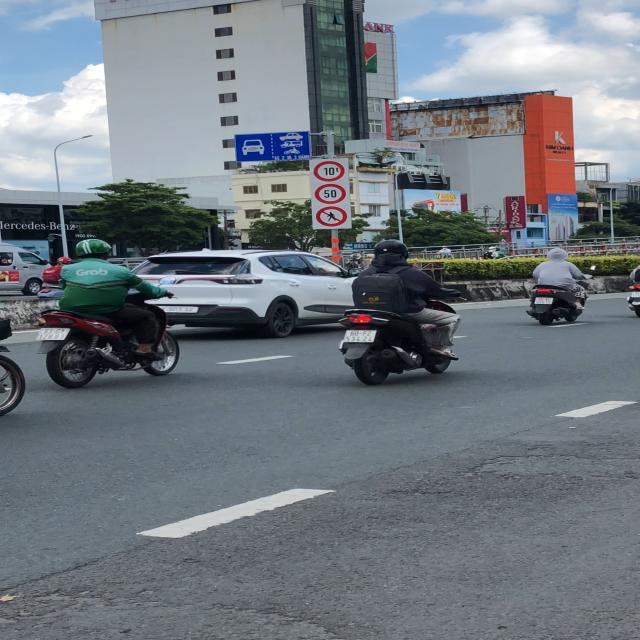Bien bao toc do toi da cho phep: (315, 182, 348, 205)
